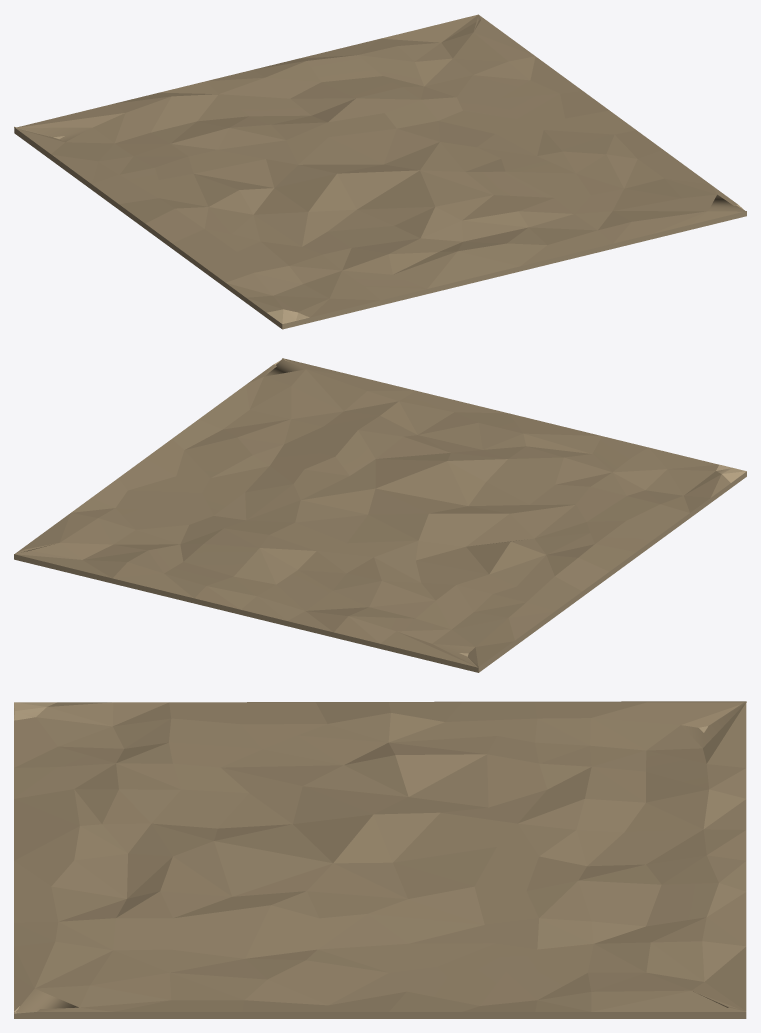
The model's file is SM_Road_21.fbx.
The picture shows the model from 3 angles, top to bottom: view 1: azimuth 30°, elevation 25°; view 2: azimuth 150°, elevation 25°; view 3: azimuth 270°, elevation 25°; orthographic projection. The views are drawn at different scales.
Parts seen in each view (by area): view 1: SM_road_15; view 2: SM_road_15; view 3: SM_road_15.
Part boxes in pixels (x1,y1,x2,y2): SM_road_15: (14,14,746,329); SM_road_15: (14,358,746,672); SM_road_15: (14,701,746,1018).
Size of the model in its own units: 400 by 12.82 by 400.
